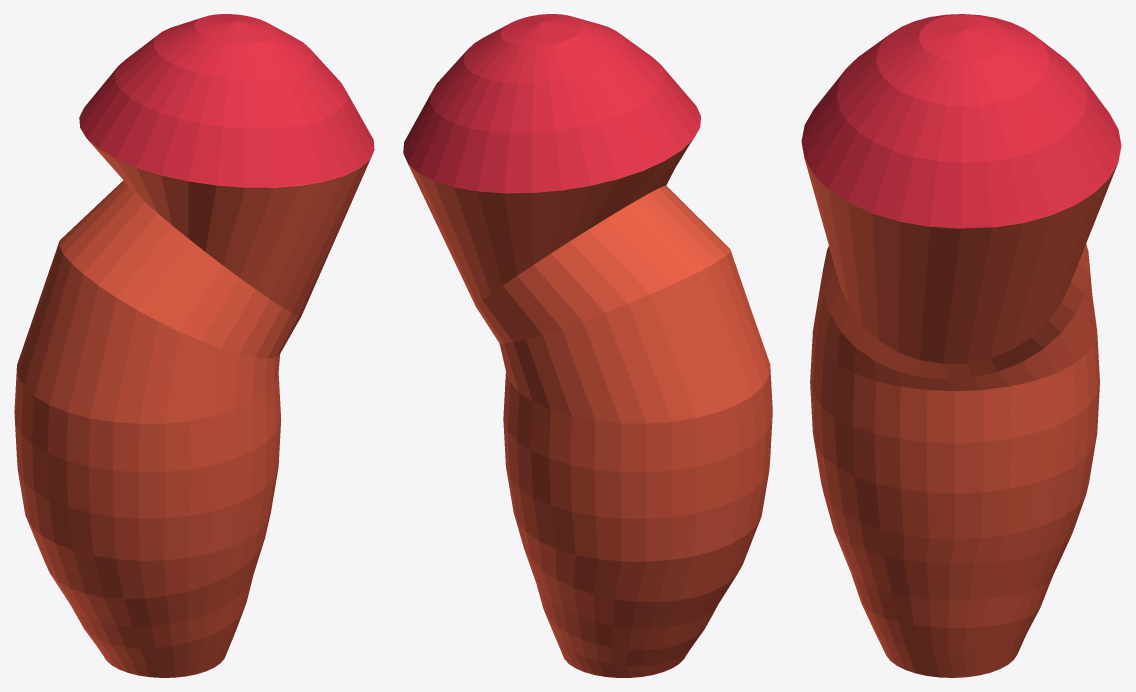
File: bean.fbx
The picture shows the model from 3 angles, left to right: view 1: azimuth 30°, elevation 25°; view 2: azimuth 150°, elevation 25°; view 3: azimuth 270°, elevation 25°; orthographic projection. The views are drawn at different scales.
Visible parts, largest first — view 1: Sphere; view 2: Sphere; view 3: Sphere.
Boxes of the visible parts, <box> form: Sphere: <box>14,14,374,677</box>; Sphere: <box>403,14,772,677</box>; Sphere: <box>801,14,1121,677</box>.
Bounding box in the file's own units: 31.68 × 56.77 × 24.84.
Materials: 1 (1 with a texture image).
